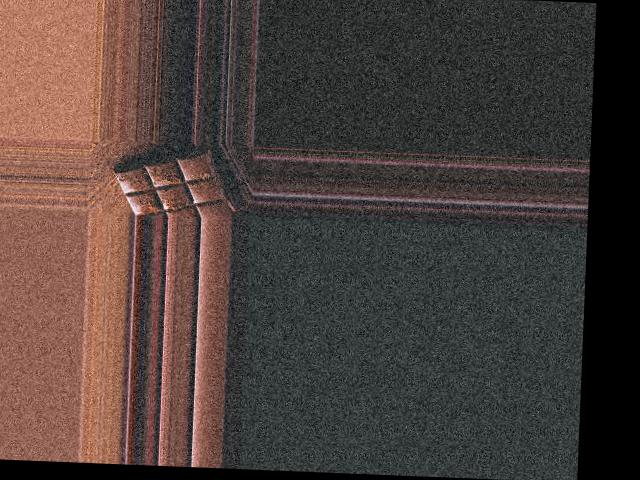chocolate: (106, 146, 235, 218)
